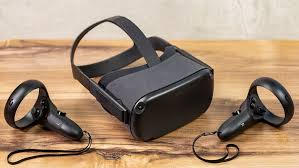oculus: (96, 45, 222, 143)
